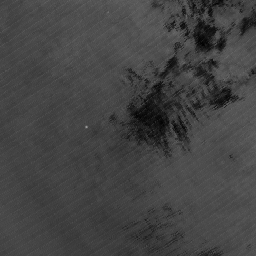Target: (82, 123, 90, 130)
